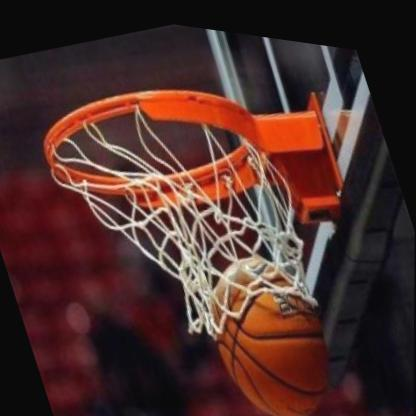basketball: (191, 225, 357, 416)
